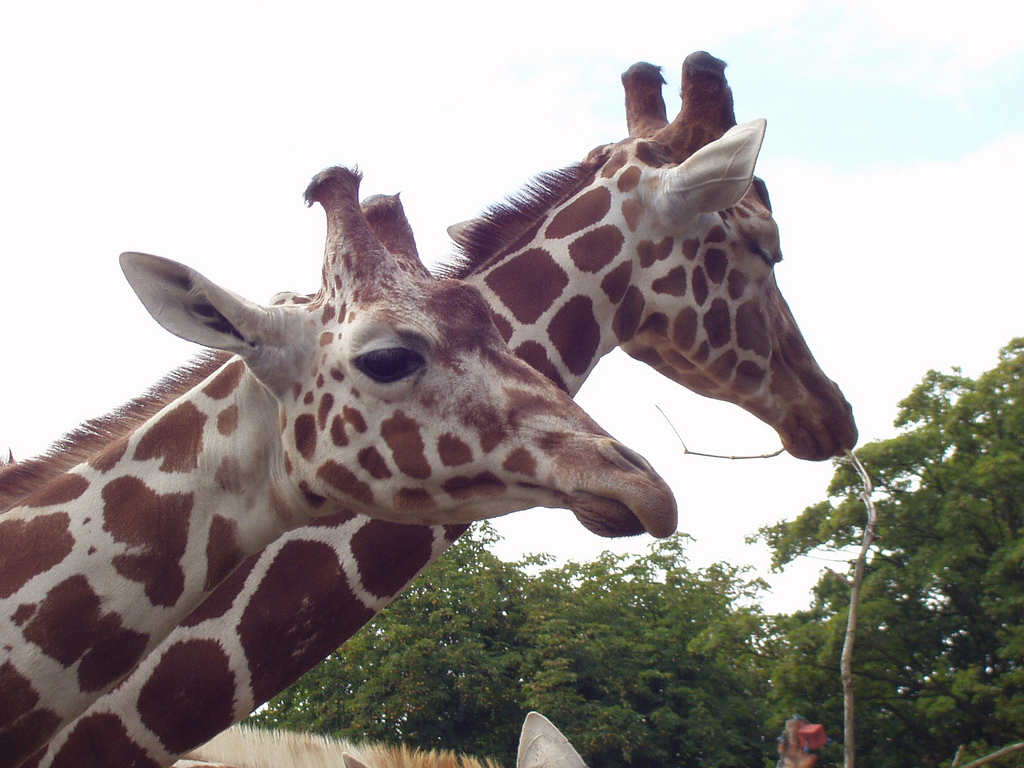giraffe: (41, 195, 659, 691), (489, 26, 909, 501)
